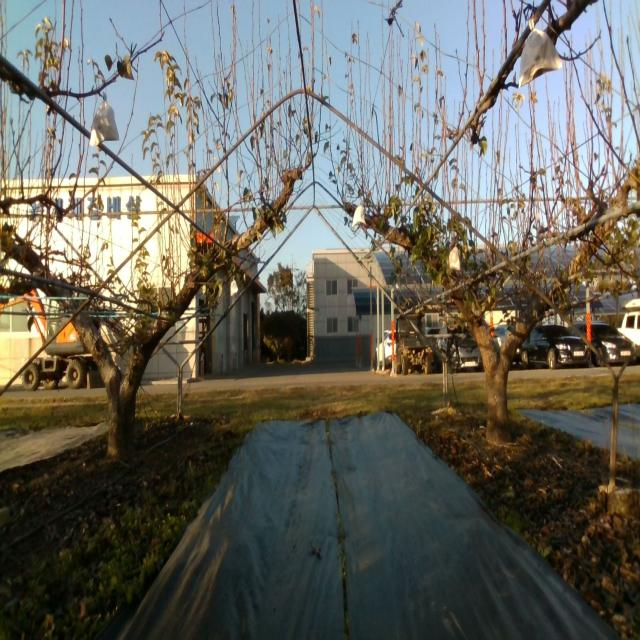pearbags: (518, 16, 562, 89), (89, 91, 120, 146), (448, 243, 461, 273), (351, 204, 367, 228)
